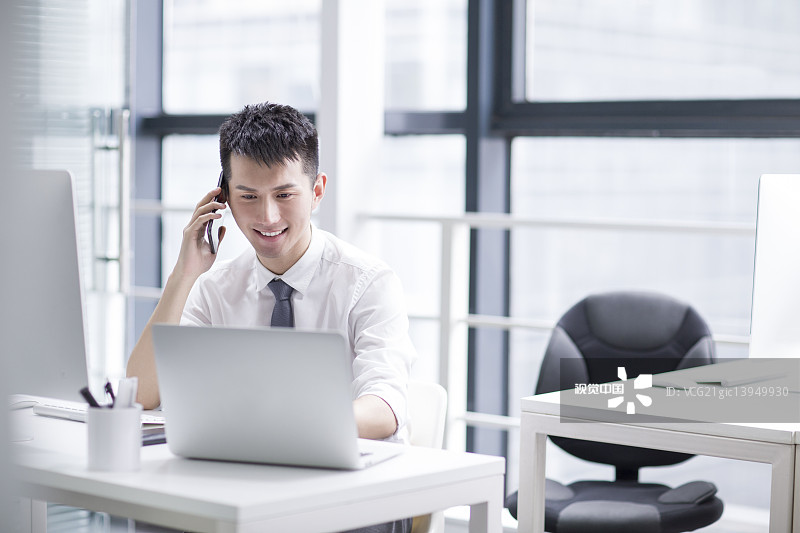calling: (172, 167, 240, 281)
